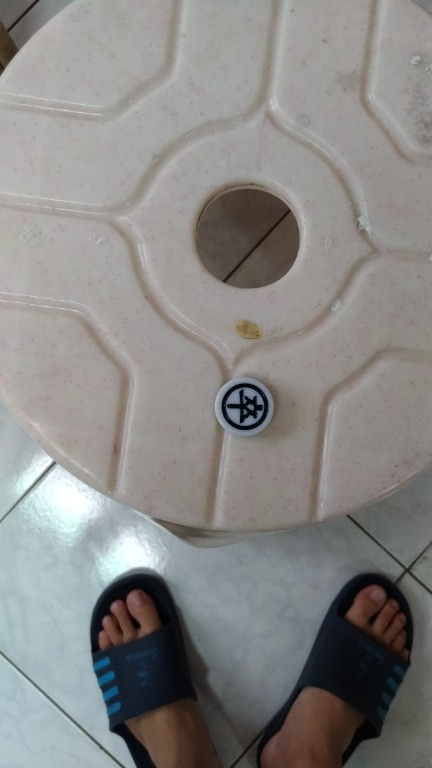b-pawn: (208, 366, 287, 444)
